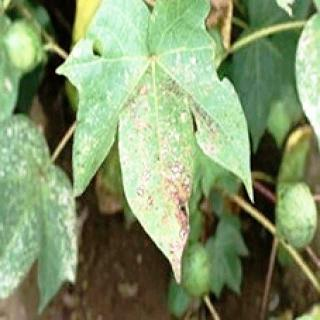grey mildew: (70, 66, 252, 280)
